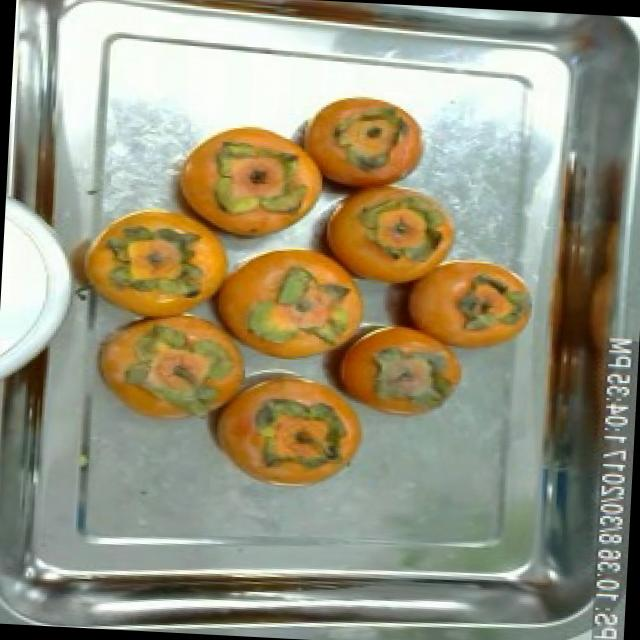Fruit: (158, 107, 338, 250), (192, 235, 384, 368), (79, 298, 266, 433), (200, 362, 374, 495), (284, 82, 438, 198), (346, 178, 468, 268)
